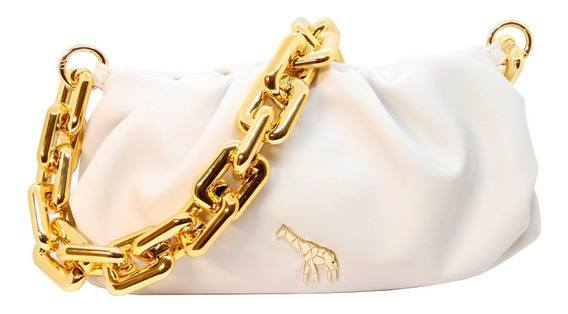cartera: (27, 15, 547, 295)
